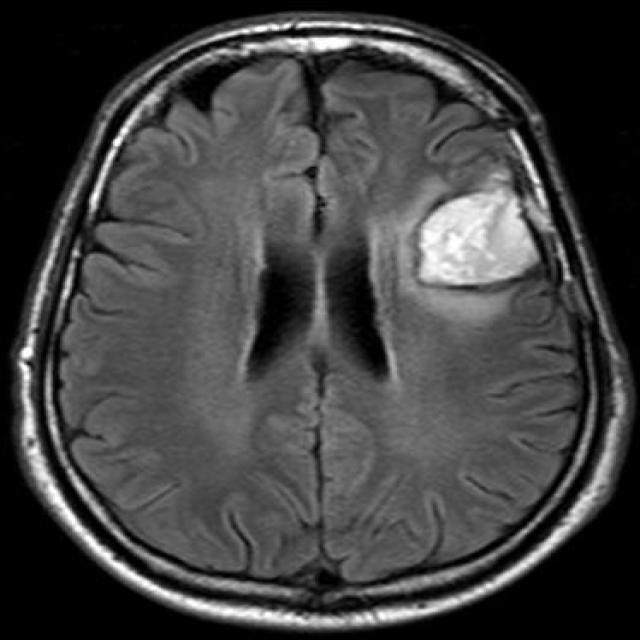Tumor-Cell: (392, 175, 547, 303)
